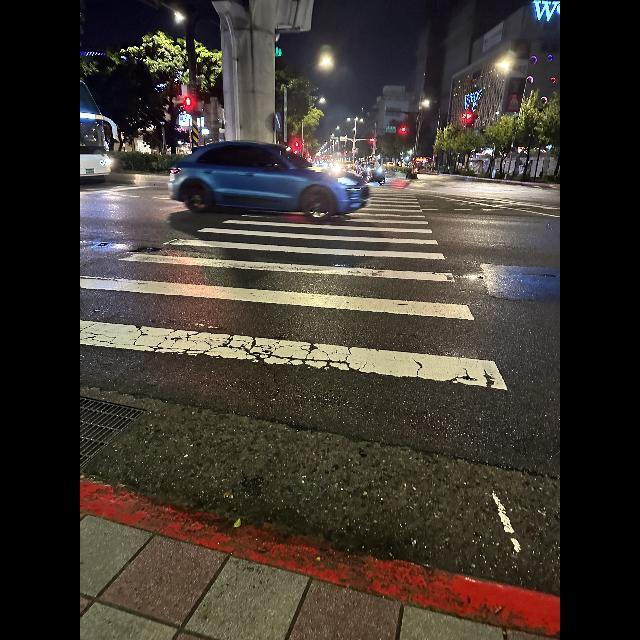sidewalk: (80, 182, 560, 597)
